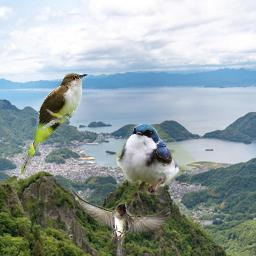Cuckoo: (19, 72, 89, 175)
Swallow: (69, 187, 172, 249), (115, 123, 197, 195)
